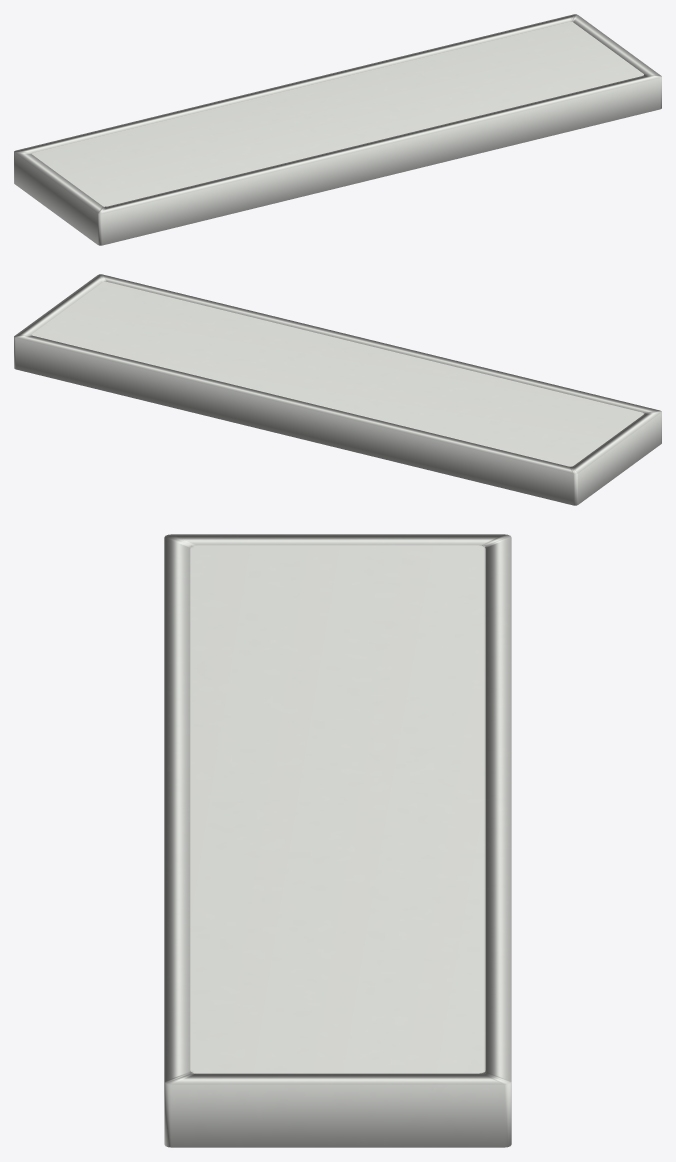
File: ceiling-light.fbx
3 views of the same model, one above another, from view 1: azimuth 30°, elevation 25°; view 2: azimuth 150°, elevation 25°; view 3: azimuth 270°, elevation 25° (orthographic). The views are drawn at different scales.
Visible parts, largest first — view 1: ceiling-light; view 2: ceiling-light; view 3: ceiling-light.
Part boxes in pixels (<box>): ceiling-light: <box>14,14,661,245</box>; ceiling-light: <box>14,274,661,505</box>; ceiling-light: <box>164,534,511,1147</box>.
Bounding box in the file's own units: 15000 × 800 × 4000.
2 materials, 2 textured.
